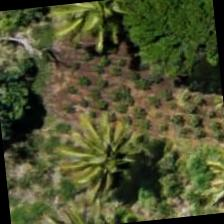Kelapa_Sawit: (62, 103, 162, 202), (48, 0, 144, 60)
